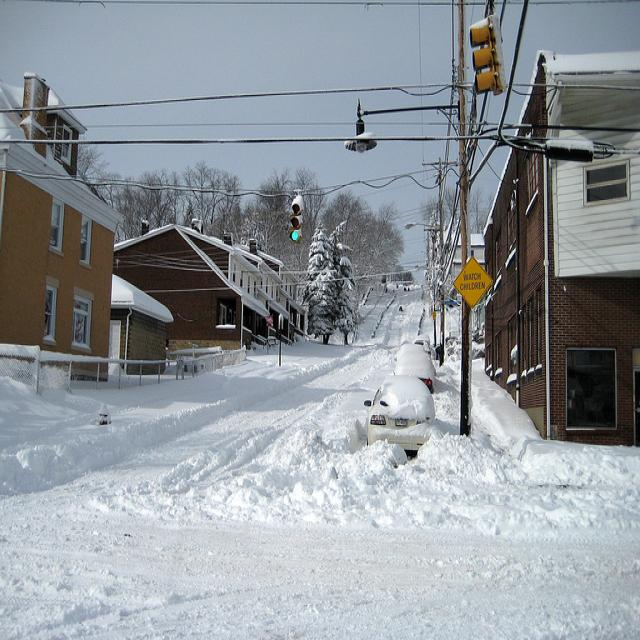Vehicle: (363, 374, 435, 459), (396, 344, 438, 392)
